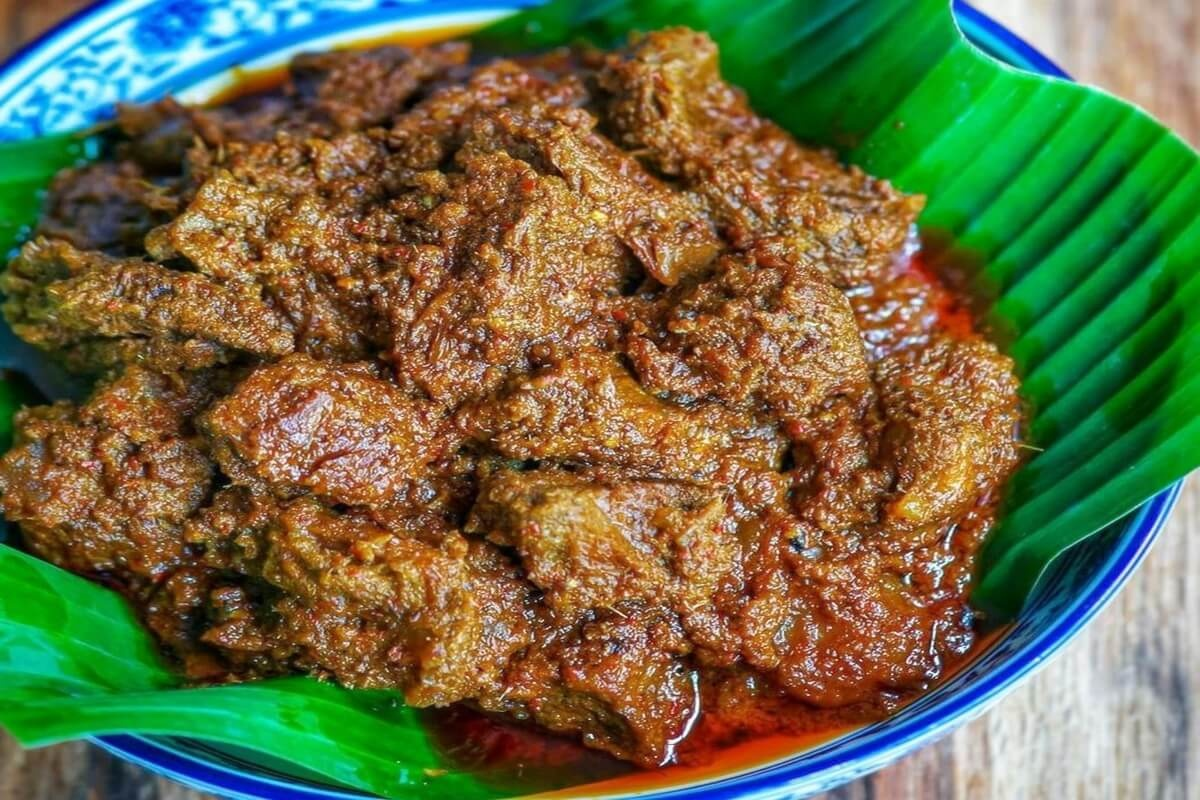rendang: (16, 106, 968, 702)
